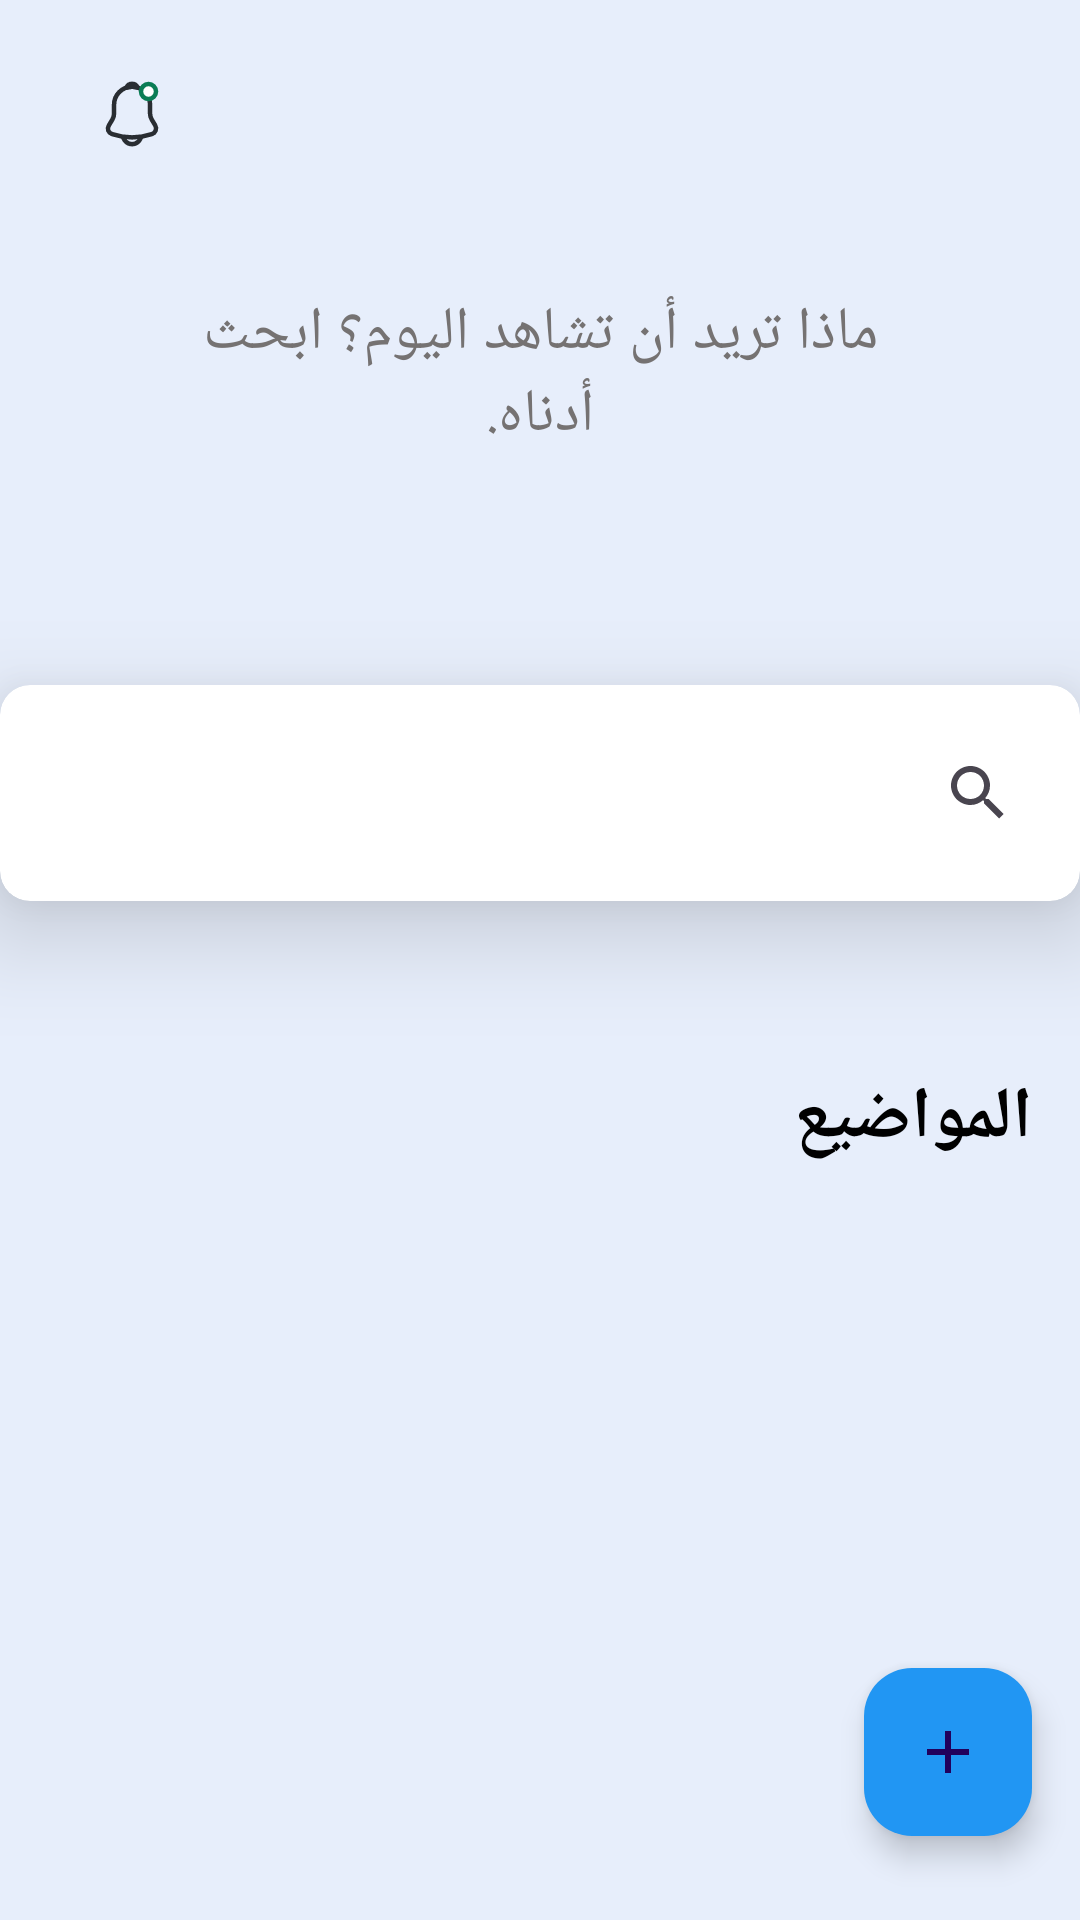

Point at icon controls on the screen. Image size 1080*1920, points as (x=x, y=y).
add: (x=948, y=1752)
notification: (x=132, y=114)
